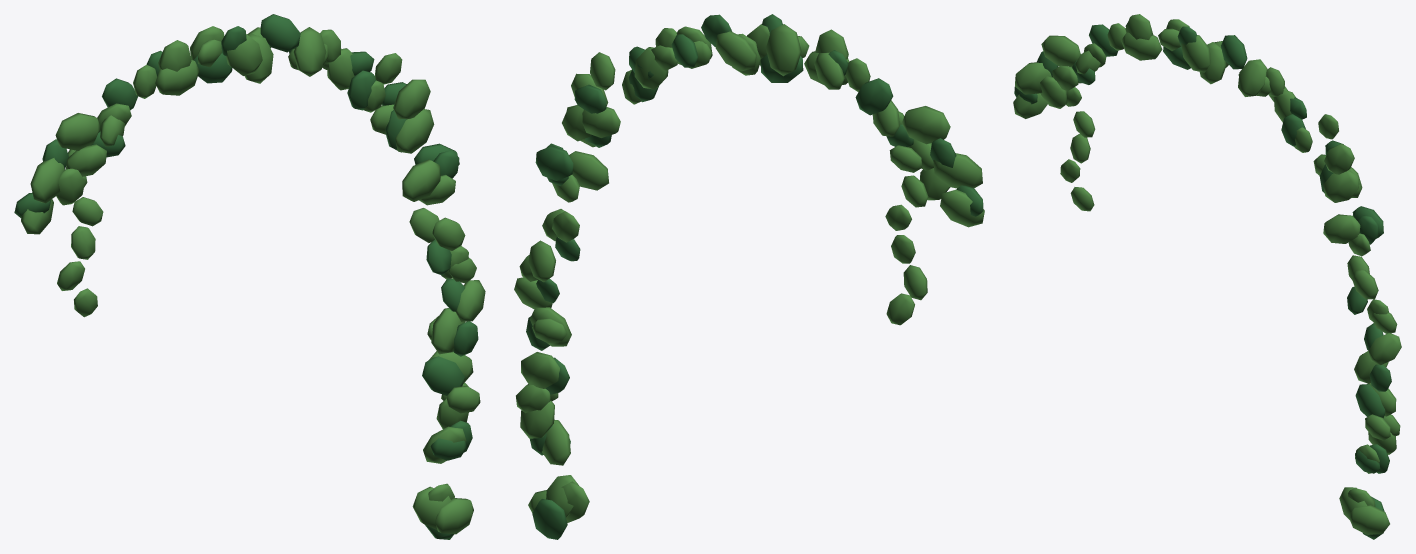
File: ivy-window.glb
The picture shows the model from 3 angles, left to right: view 1: azimuth 30°, elevation 25°; view 2: azimuth 150°, elevation 25°; view 3: azimuth 330°, elevation 25°; orthographic projection. The views are drawn at different scales.
Visible parts, largest first — view 1: ivy-window; view 2: ivy-window; view 3: ivy-window.
Boxes of the visible parts, x1,y1,x2,y2 form: ivy-window: (14, 14, 485, 539); ivy-window: (514, 14, 984, 539); ivy-window: (1013, 14, 1401, 539).
Size of the model in its own units: 1.46 by 1.7 by 0.1053.
